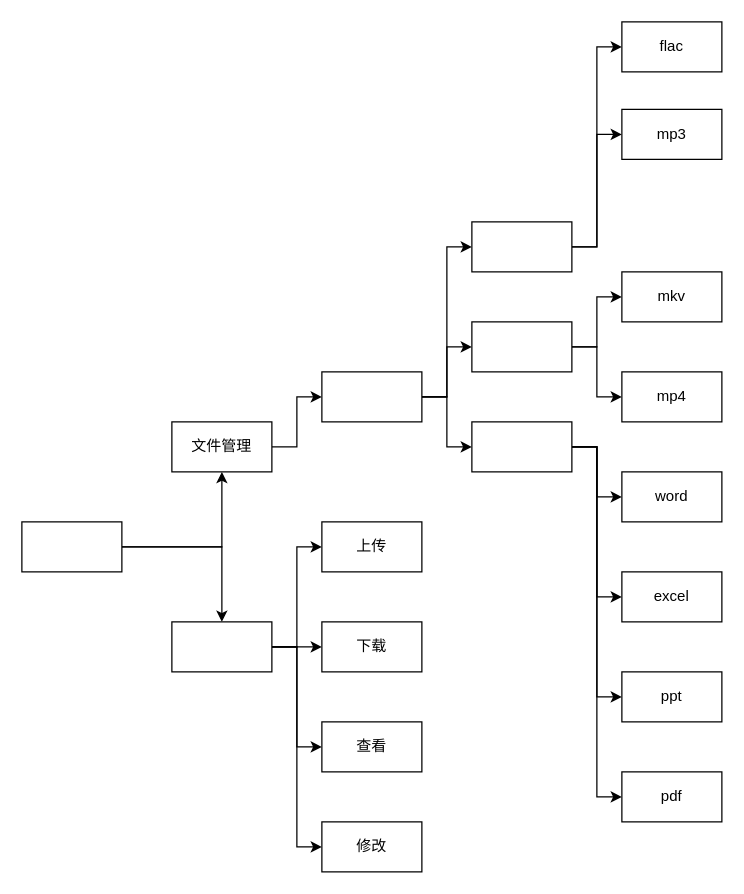
Some shapes in this 744 by 894 pixel diagram are drawn without their labels. The shapes that lost their labels are listed below. From the top down, each one's centre as x and y in pixels, then its label:
the point at 521,246: 音频
the point at 521,346: 视频
the point at 371,396: 文件类型
the point at 521,446: 文档
the point at 71,546: 功能
the point at 221,646: 权限管理
